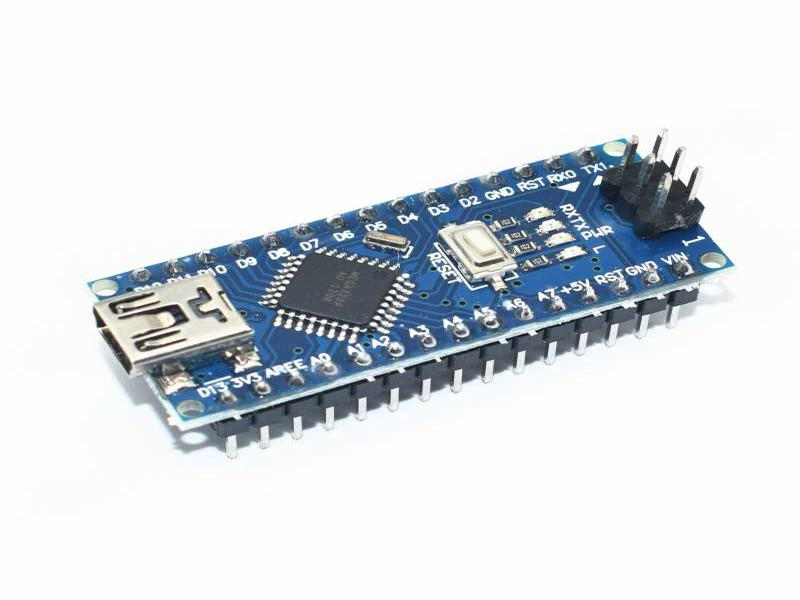Arduino_Nano: (83, 124, 735, 466)
